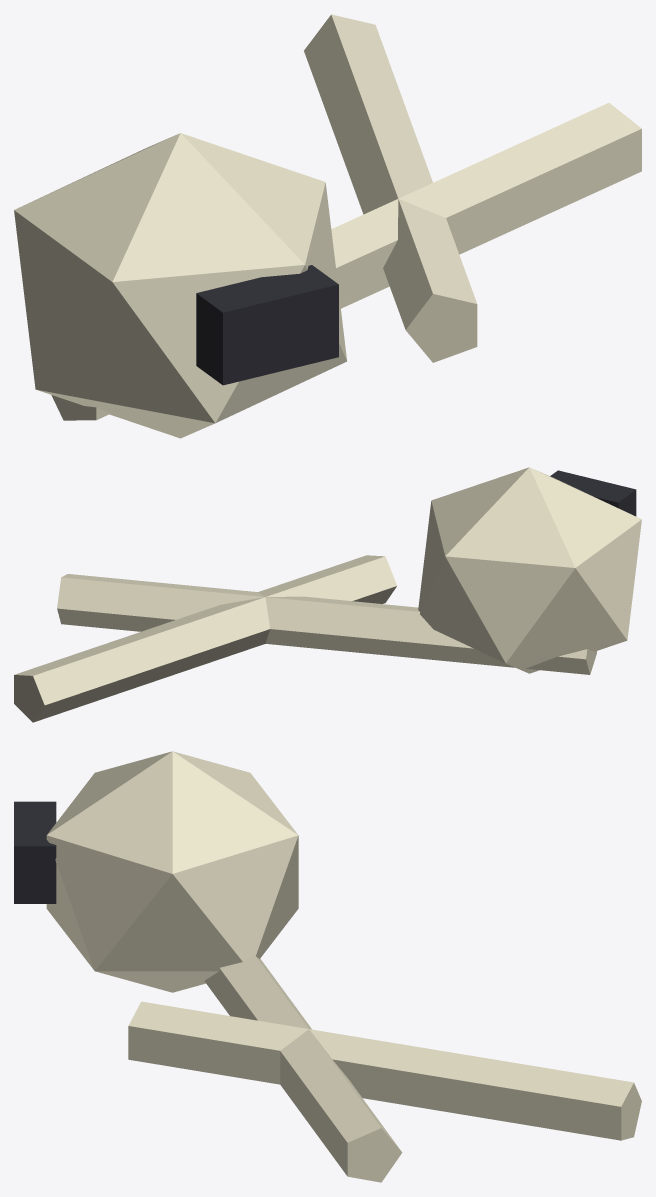
Rendered from bone_pile.glb.
The picture shows the model from 3 angles, top to bottom: view 1: azimuth 30°, elevation 25°; view 2: azimuth 150°, elevation 25°; view 3: azimuth 270°, elevation 25°; orthographic projection. The views are drawn at different scales.
Parts seen in each view (by area): view 1: bone_pile; view 2: bone_pile; view 3: bone_pile.
Part boxes in pixels (bbox=[...]): bone_pile: bbox=[14, 14, 641, 438]; bone_pile: bbox=[14, 467, 641, 722]; bone_pile: bbox=[14, 751, 641, 1182].
Size of the model in its own units: 0.619 by 0.252 by 0.5939.
